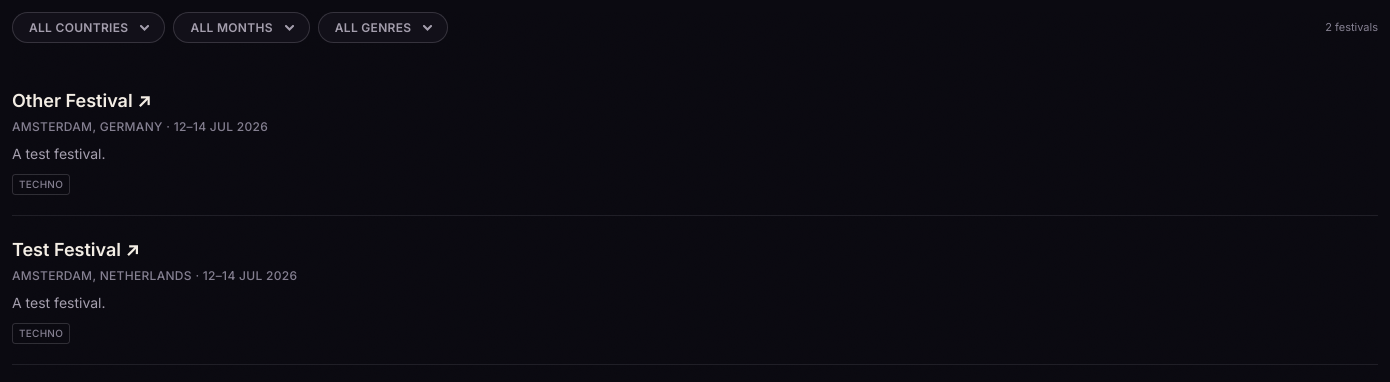
Test case: FestivalExplorer — final mobile compactness polish (2026-09-13 follow-up, final review adjustment): border weight is trimmed on mobile only, vertical padding st › filter behavior is unaffected: selecting a country still filters the festival list
Expected: the link "Other Festival ↗" is shown, top-left (12, 90), bottom-right (151, 111)
Select "Netherlands" in the dropdown named "Country": [89, 28] box top-left (12, 12), bottom-right (165, 43)
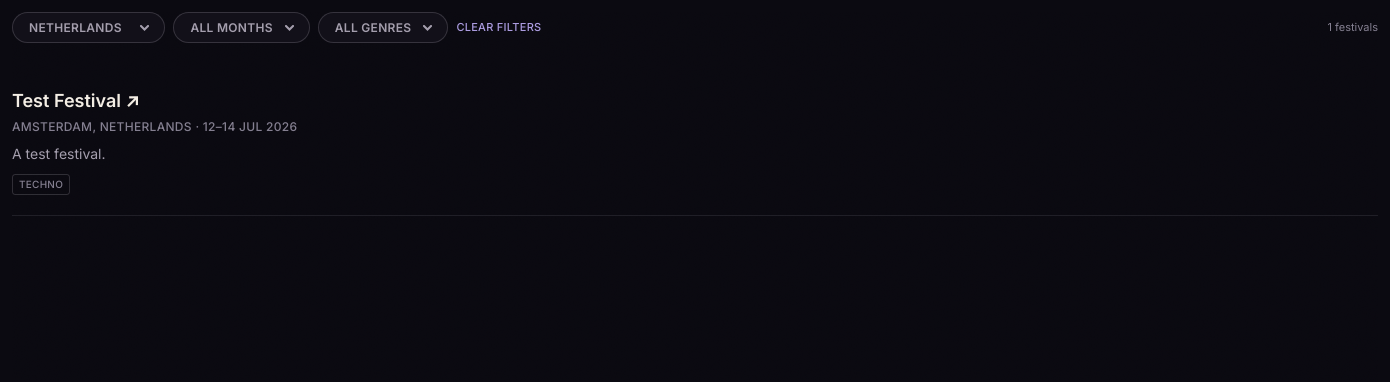
Expected: the link "Test Festival ↗" is shown, top-left (12, 90), bottom-right (140, 111)
Expected: the link "Other Festival" is gone
